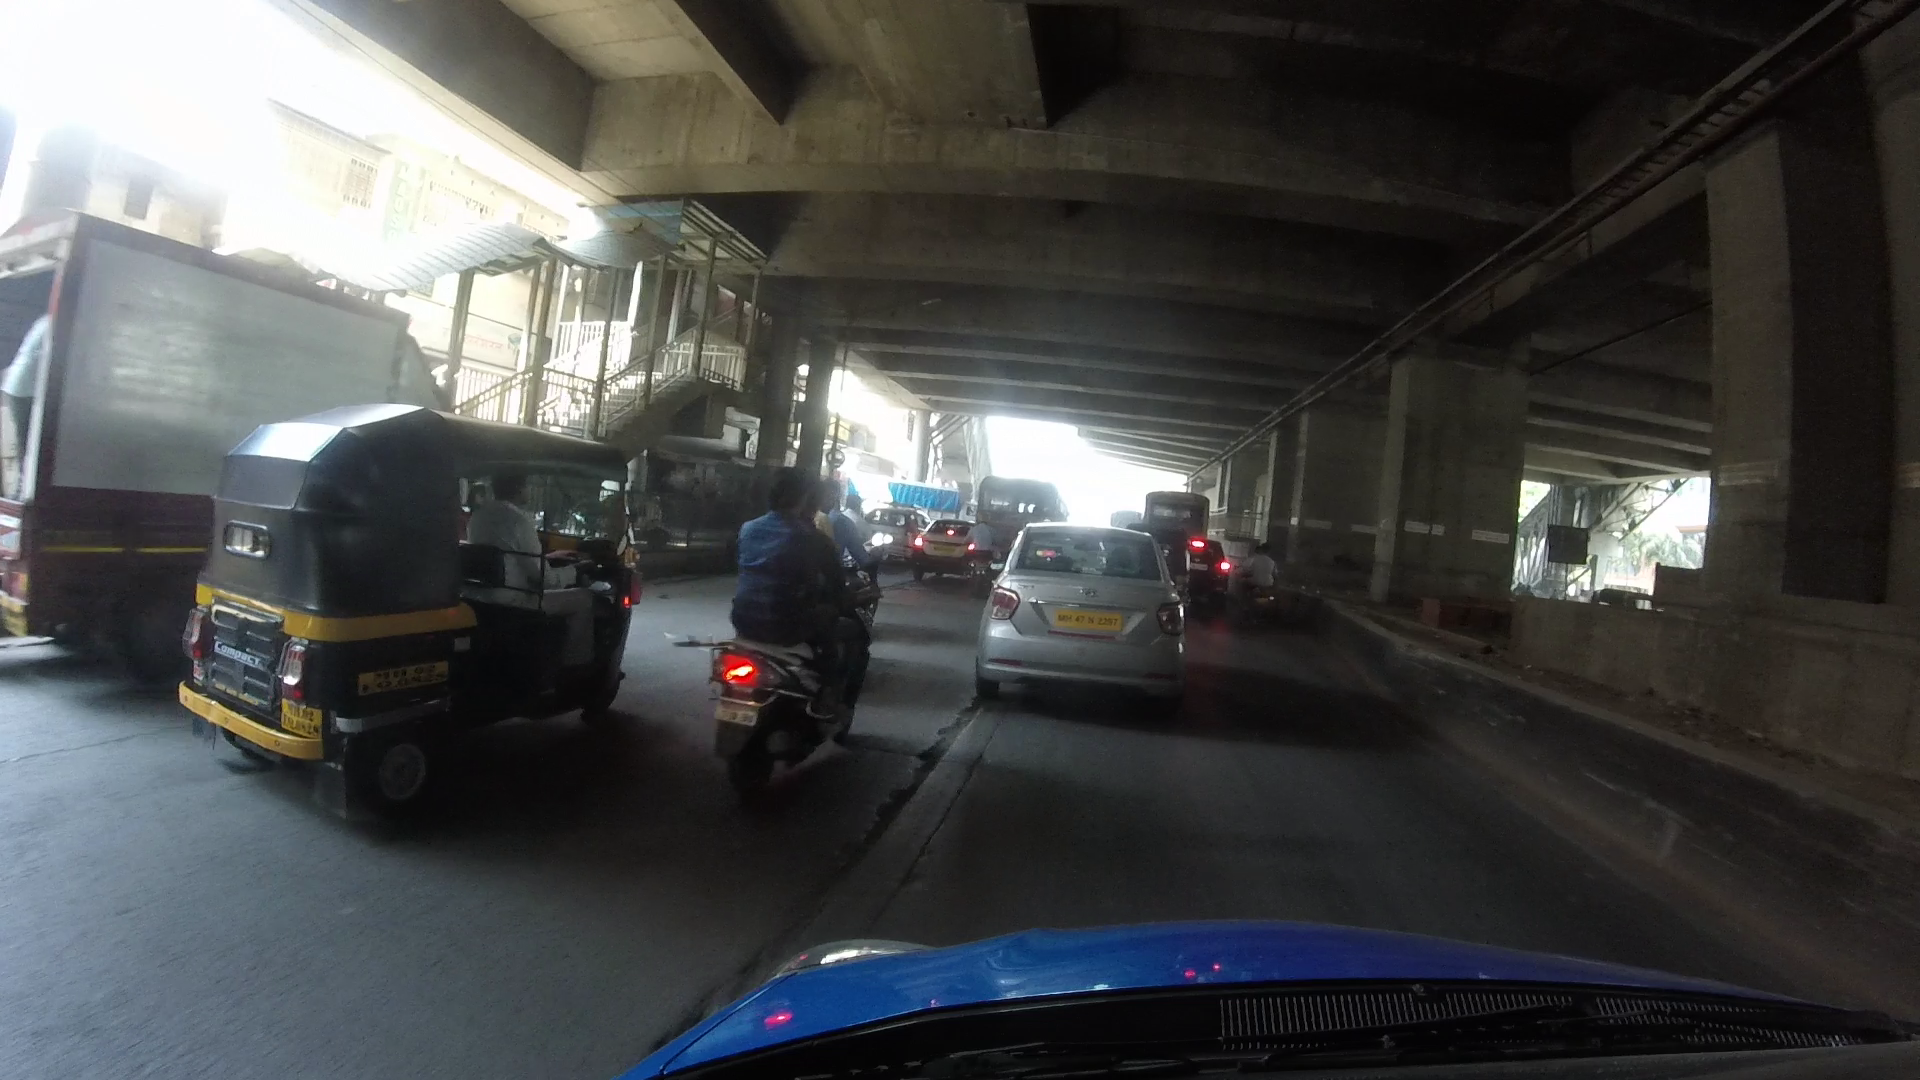bike/scooter: (699, 465, 872, 816)
car: (975, 513, 1189, 704)
rickshaw: (181, 389, 644, 824)
truck: (8, 210, 462, 683)
